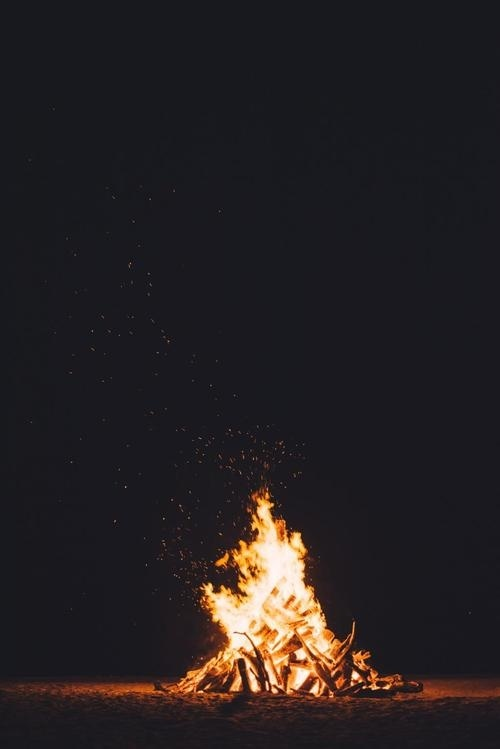fire: (173, 489, 377, 701)
